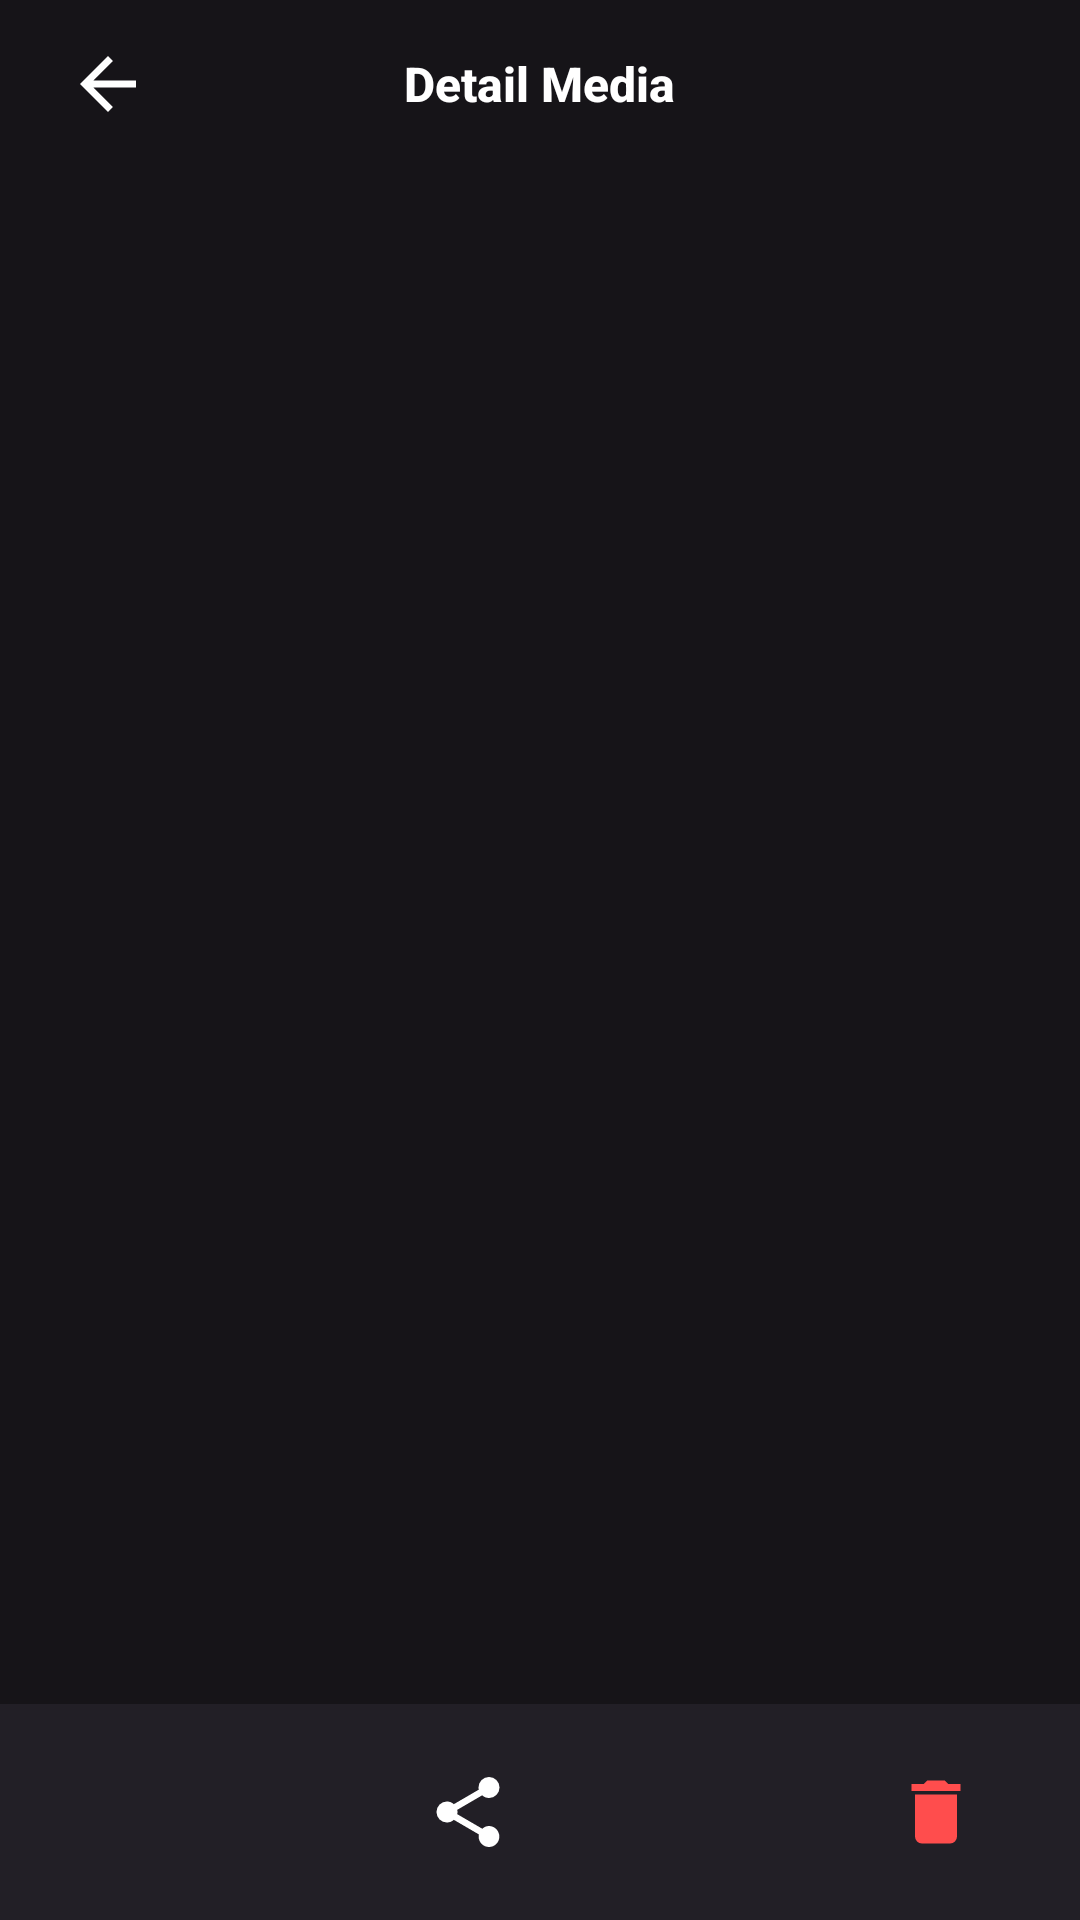

Named icons in this screenshot (1080px×1920px) and their bounding boxes, (x1, y1, x2, y2):
Bagikan: (436, 1777, 500, 1847)
Hapus: (911, 1780, 961, 1844)
Kembali: (80, 56, 136, 112)
